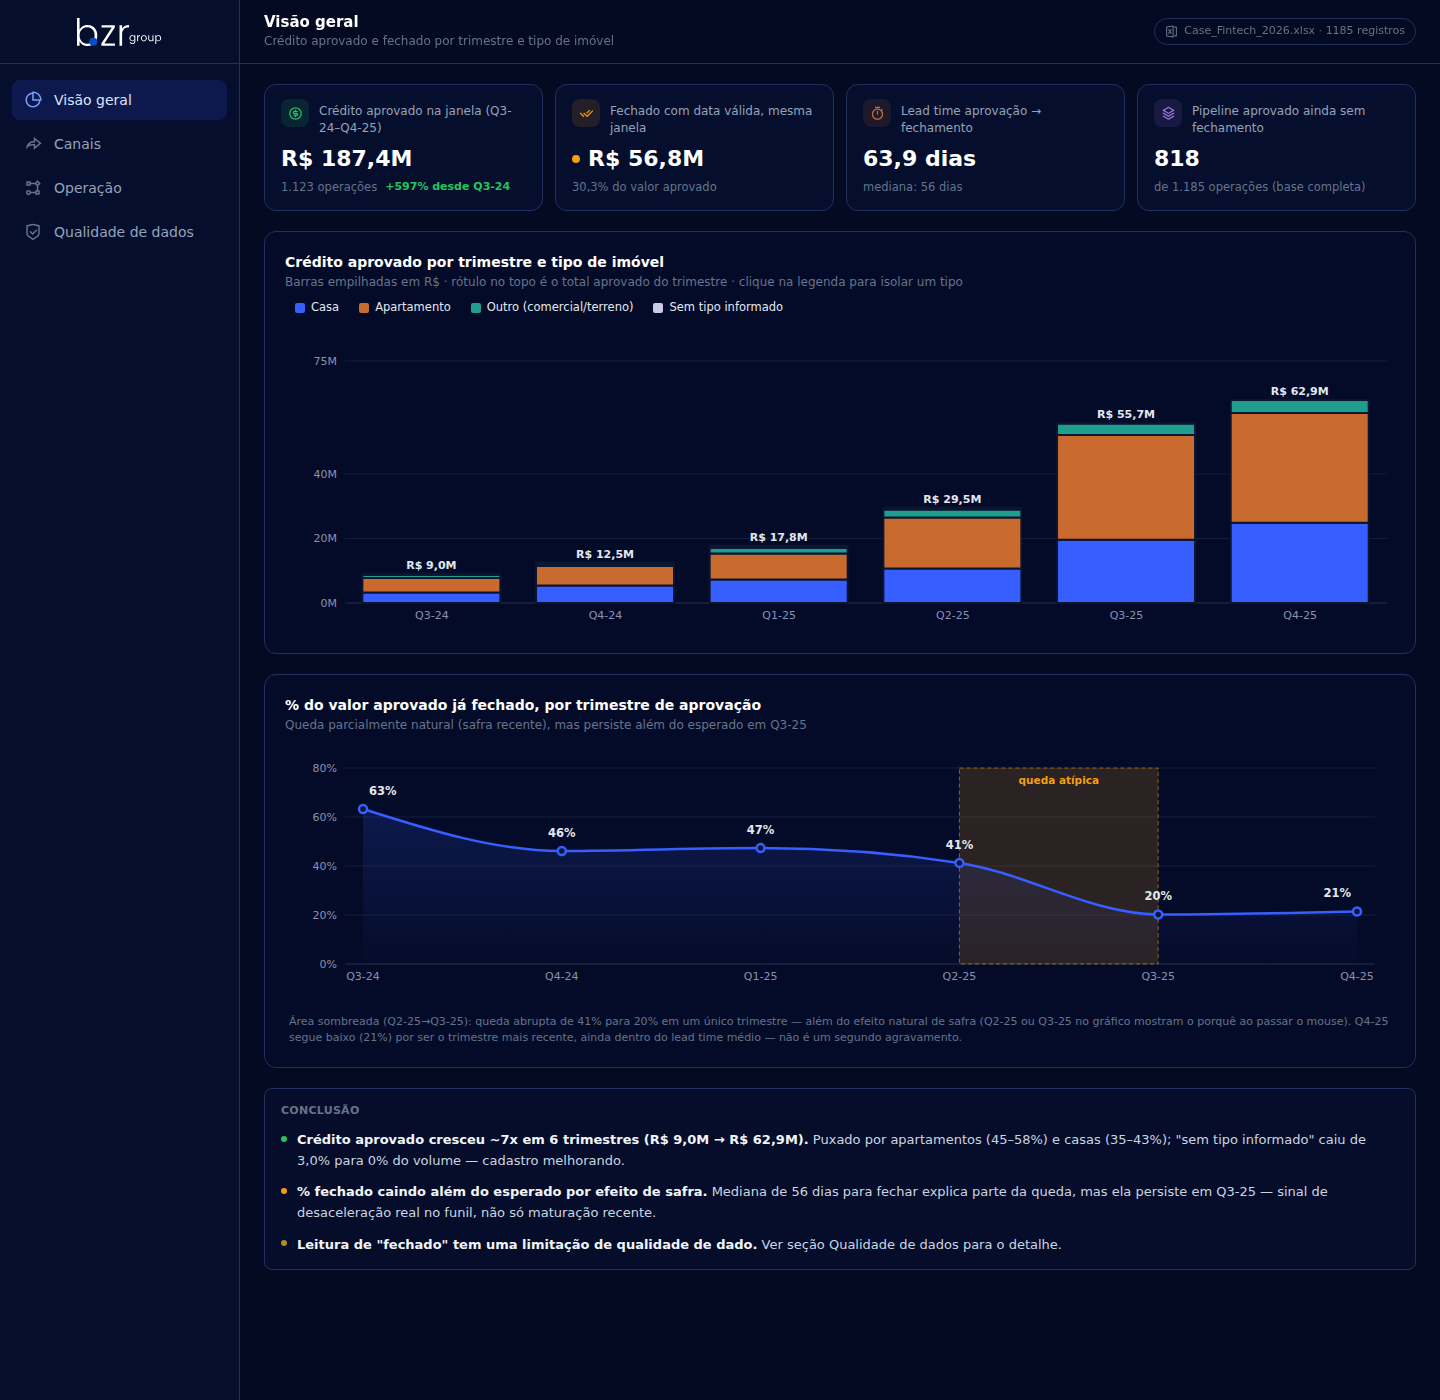

Layout of this report page (visuals, bound fields, positions):
{"tool":"powerbi","page":{"name":"Visão Geral","canvas":[1920,1080],"ordinal":1},"visuals":[{"type":"slicer","title":"Estado (UF)","fields":{"Values":["Fact_Operacoes.UF"]},"box":[1630,15.3,208.3,74],"z":0,"group":"g1"},{"type":"actionButton","title":"btn_reset_filtros","box":[527,10.9,84.2,70],"z":1000,"group":"g4"},{"type":"slicer","title":"Tipo de Imóvel","fields":{"Values":["Dim_TipoImovel.TipoImovel"]},"box":[1320.7,15.3,294,74],"z":1000,"group":"g1"},{"type":"group","id":"g1","title":"g_filtros_rapidos","box":[650,15.3,1188.3,74],"z":1500,"group":"g4"},{"type":"slicer","title":"Canal de Originação","fields":{"Values":["Dim_Canal.Canal"]},"box":[1097,15.3,208.3,74],"z":2000,"group":"g1"},{"type":"actionButton","title":"btn_visão_geral","box":[55.2,232.5,48.3,53.3],"z":2000,"group":"g3"},{"type":"group","id":"g2","title":"g_graficos","box":[163.7,106,1757.2,960],"z":2500},{"type":"group","id":"g3","title":"g_btn_navegacao","box":[21.5,54.9,112.5,230.9],"z":2750},{"type":"group","id":"g4","title":"g_topbar","box":[527,10.9,1311.3,78.4],"z":2875},{"type":"slicer","title":"Trimestre","fields":{"Values":["Dim_Calendario.TrimestreQ"]},"box":[873.3,15.3,208.3,74],"z":3000,"group":"g1"},{"type":"actionButton","title":"btn_menu_on","box":[51.9,158.3,56.7,52.5],"z":3000,"group":"g3"},{"type":"slicer","title":"Ano","fields":{"Values":["Dim_Calendario.Ano"]},"box":[650,15.3,208,74],"z":4000,"group":"g1"},{"type":"actionButton","title":"btn_home","box":[21.5,54.9,112.5,60.8],"z":4000,"group":"g3"},{"type":"cardVisual","title":"Cartão KPIs","fields":{"Data":["_Medidas.Valor Aprovado (Janela)","_Medidas.Valor Fechado (Janela)","_Medidas.Lead Time Medio (Dias)","_Medidas.Pipeline Aberto"]},"box":[163.7,106,1757.2,168.4],"z":4000,"group":"g2"},{"type":"tableEx","title":"Detalhamento por Canal — Operações e Conversão","fields":{"Values":["Dim_Canal.Canal","_Medidas.N Operacoes","_Medidas.Taxa de Conversao (Qtd)","_Medidas.Taxa de Conversao (Valor)"]},"box":[918,642,972,424],"z":5000,"group":"g2"},{"type":"lineStackedColumnComboChart","title":"Crédito Aprovado x Fechado por Trimestre e Tipo de Imóvel","fields":{"Category":["Dim_Calendario.TrimestreQ"],"Series":["Dim_TipoImovel.TipoImovel"],"Y":["_Medidas.Valor Aprovado (Janela)"],"Y2":["_Medidas.% Fechado (Janela)"]},"box":[174.6,255.7,1715.1,380.4],"z":6000,"group":"g2"},{"type":"barChart","title":"Volume Aprovado por Canal de Aquisição","fields":{"Category":["Dim_Canal.Canal"],"Y":["_Medidas.Valor Aprovado"]},"box":[174,642,736,424],"z":7000,"group":"g2"}]}

Visuals, with their boxes on the page's 1920x1080 design canvas (x1, y1, x2, y2). These are canvas units, not pixel positions in the 1440x1400 screenshot, which may show the page scaled, cropped or inside an application window:
"Estado (UF)" slicer: box(1630, 15, 1838, 89)
"btn_reset_filtros" actionButton: box(527, 11, 611, 81)
"Tipo de Imóvel" slicer: box(1321, 15, 1615, 89)
"g_filtros_rapidos" group: box(650, 15, 1838, 89)
"Canal de Originação" slicer: box(1097, 15, 1305, 89)
"btn_visão_geral" actionButton: box(55, 232, 104, 286)
"g_graficos" group: box(164, 106, 1921, 1066)
"g_btn_navegacao" group: box(22, 55, 134, 286)
"g_topbar" group: box(527, 11, 1838, 89)
"Trimestre" slicer: box(873, 15, 1082, 89)
"btn_menu_on" actionButton: box(52, 158, 109, 211)
"Ano" slicer: box(650, 15, 858, 89)
"btn_home" actionButton: box(22, 55, 134, 116)
"Cartão KPIs" cardVisual: box(164, 106, 1921, 274)
"Detalhamento por Canal — Operações e Conversão" tableEx: box(918, 642, 1890, 1066)
"Crédito Aprovado x Fechado por Trimestre e Tipo de Imóvel" lineStackedColumnComboChart: box(175, 256, 1890, 636)
"Volume Aprovado por Canal de Aquisição" barChart: box(174, 642, 910, 1066)
